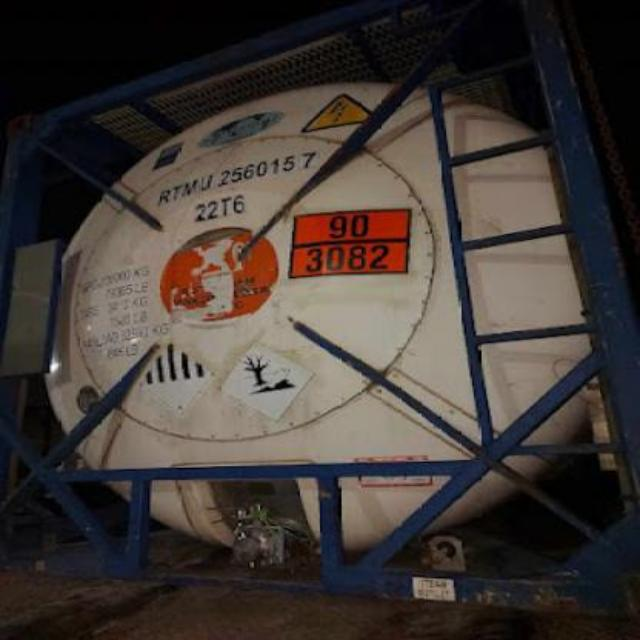0: (256, 156, 268, 182)
1: (268, 150, 282, 182)
2: (218, 165, 232, 189)
5: (280, 148, 294, 176), (230, 163, 243, 187)
6: (242, 159, 254, 183)
7: (298, 148, 322, 170)
M: (181, 170, 197, 202)
R: (150, 182, 172, 210)
T: (170, 178, 182, 206)
U: (197, 170, 213, 193)
